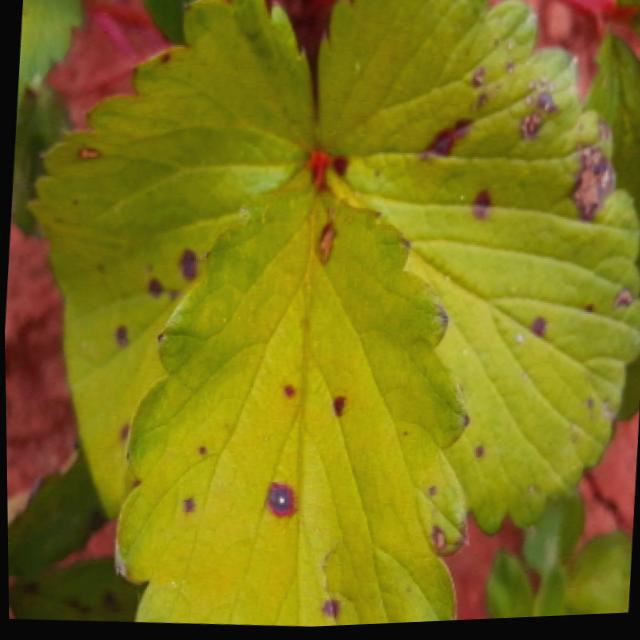Leaf Spot: (315, 0, 640, 539), (111, 159, 467, 629), (23, 0, 316, 521), (15, 0, 83, 117)
